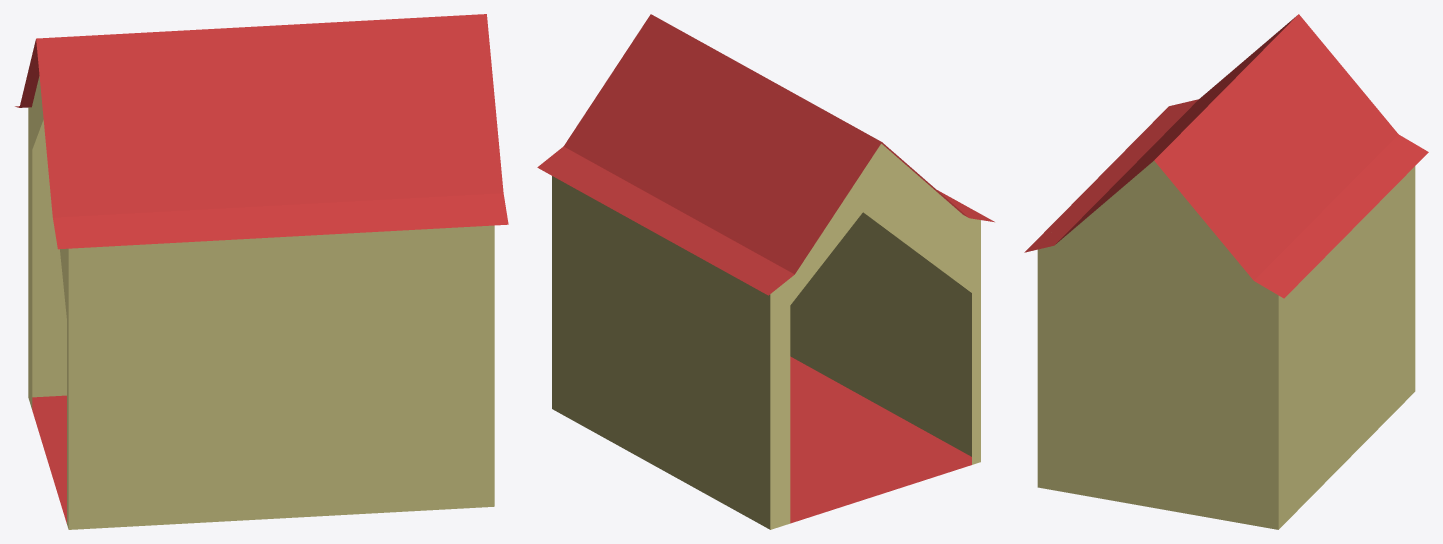
3 renders of one model, left to right at view 1: azimuth 30°, elevation 25°; view 2: azimuth 150°, elevation 25°; view 3: azimuth 270°, elevation 25°, orthographic. The views are drawn at different scales.
Size of the model in its own units: 22 by 19.56 by 18.77.
